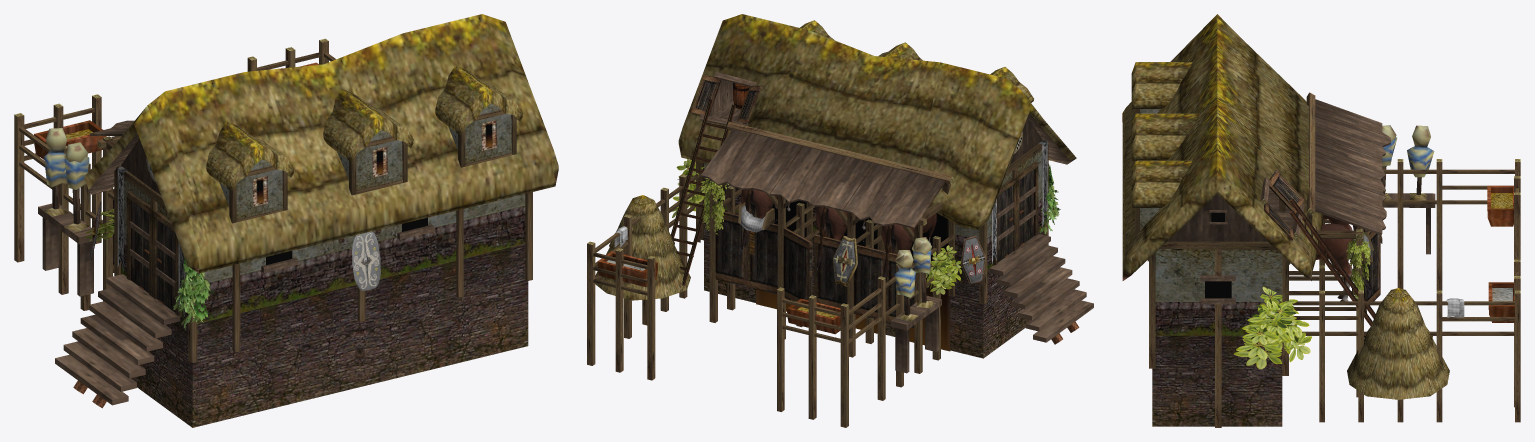
The model's file is s_gauls_stable.glb.
3 views of the same model, side by side, from view 1: azimuth 30°, elevation 25°; view 2: azimuth 150°, elevation 25°; view 3: azimuth 270°, elevation 25° (orthographic). The views are drawn at different scales.
Visible parts, largest first — view 1: s_gauls_stable_part0, s_gauls_stable_part2, s_gauls_stable_part4; view 2: s_gauls_stable_part0, s_gauls_stable_part2, s_gauls_stable_part6, s_gauls_stable_part4, s_gauls_stable_part7; view 3: s_gauls_stable_part0, s_gauls_stable_part2, s_gauls_stable_part6.
Part boxes in pixels (x1,y1,x2,y2): s_gauls_stable_part0: [14, 14, 558, 427]; s_gauls_stable_part2: [85, 209, 215, 333]; s_gauls_stable_part4: [90, 158, 380, 290]; s_gauls_stable_part0: [587, 14, 1093, 427]; s_gauls_stable_part2: [672, 159, 1060, 294]; s_gauls_stable_part6: [740, 189, 936, 252]; s_gauls_stable_part4: [833, 131, 1022, 286]; s_gauls_stable_part7: [741, 189, 893, 281]; s_gauls_stable_part0: [1122, 14, 1520, 427]; s_gauls_stable_part2: [1234, 232, 1370, 369]; s_gauls_stable_part6: [1316, 215, 1352, 301].
Size of the model in its own units: 4.2 by 2.66 by 3.53.
Materials: 8 (8 with a texture image).
